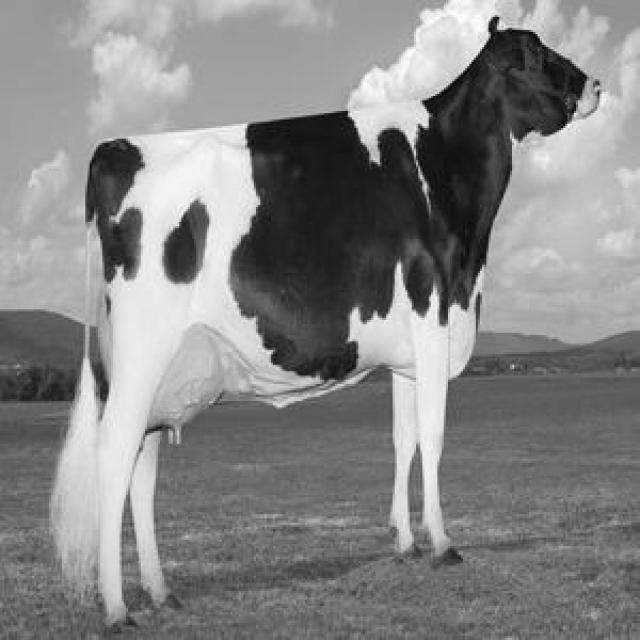cow: (55, 20, 599, 628)
